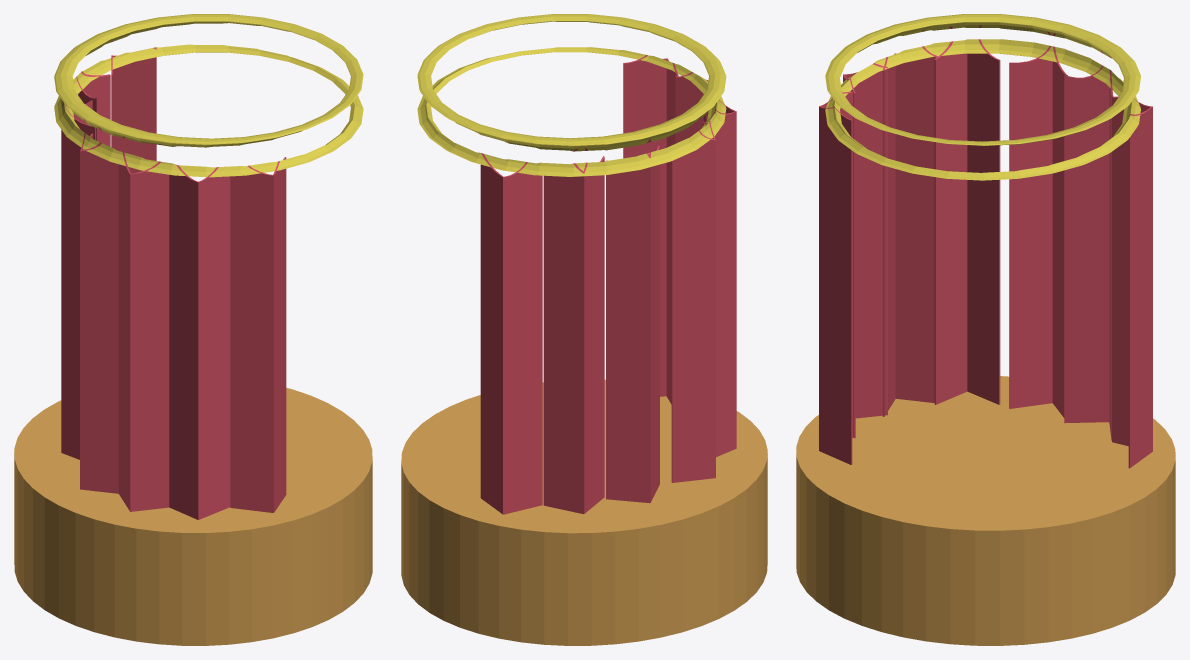
File: Copy of Person Behind Curtains On Stage (No Audience).glb
The picture shows the model from 3 angles, left to right: view 1: azimuth 30°, elevation 25°; view 2: azimuth 150°, elevation 25°; view 3: azimuth 270°, elevation 25°; orthographic projection. The views are drawn at different scales.
Parts seen in each view (by area): view 1: Mesh_Mesh_head_geo.001_lambert2SG.001; view 2: Mesh_Mesh_head_geo.001_lambert2SG.001; view 3: Mesh_Mesh_head_geo.001_lambert2SG.001.
Boxes of the visible parts, x1,y1,x2,y2 form: Mesh_Mesh_head_geo.001_lambert2SG.001: (14,14,372,645); Mesh_Mesh_head_geo.001_lambert2SG.001: (401,14,767,645); Mesh_Mesh_head_geo.001_lambert2SG.001: (796,14,1175,645).
Size of the model in its own units: 0.0462 by 0.069 by 0.0477.
